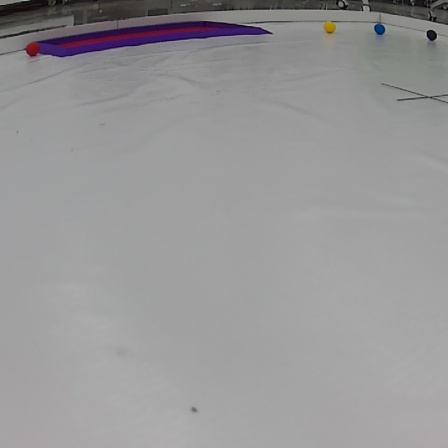black: (421, 26, 438, 42)
blue: (372, 22, 388, 39)
red: (23, 39, 43, 58)
red_aim: (17, 18, 278, 59)
yellow: (325, 18, 338, 37)
